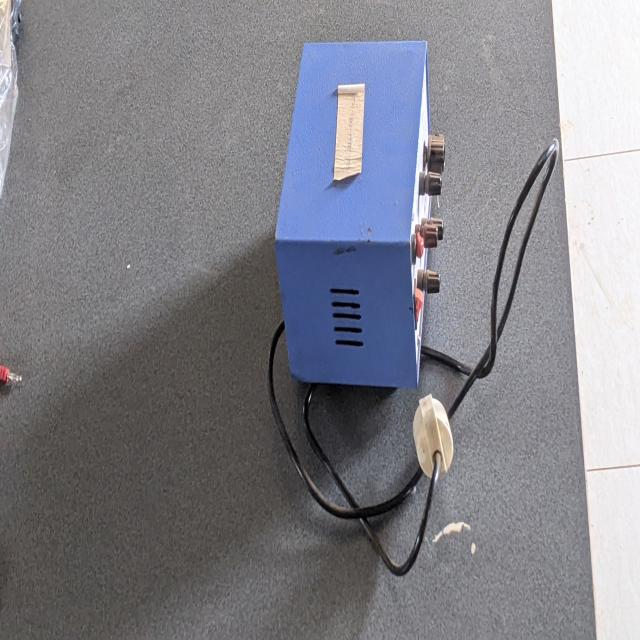Analog DC Power Supply: (272, 26, 452, 395)
